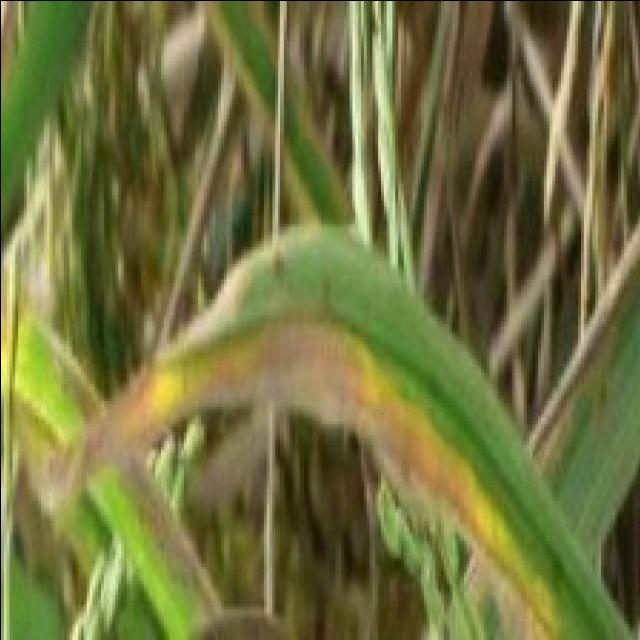Unhealthy: (39, 233, 567, 640), (114, 456, 220, 619), (55, 349, 102, 424), (267, 247, 285, 278), (318, 270, 329, 307)
